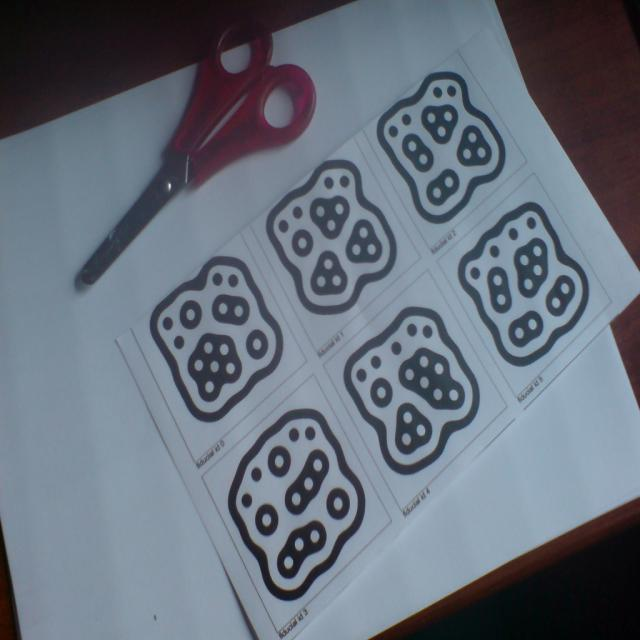scissors: (75, 15, 316, 286)
